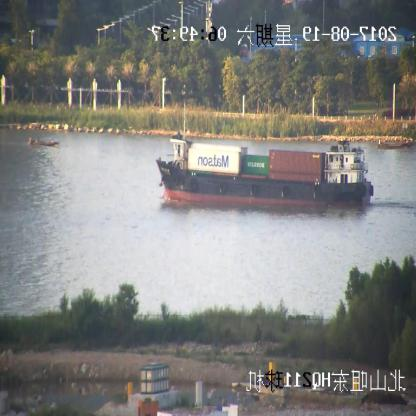Container Ship: (156, 138, 374, 209)
